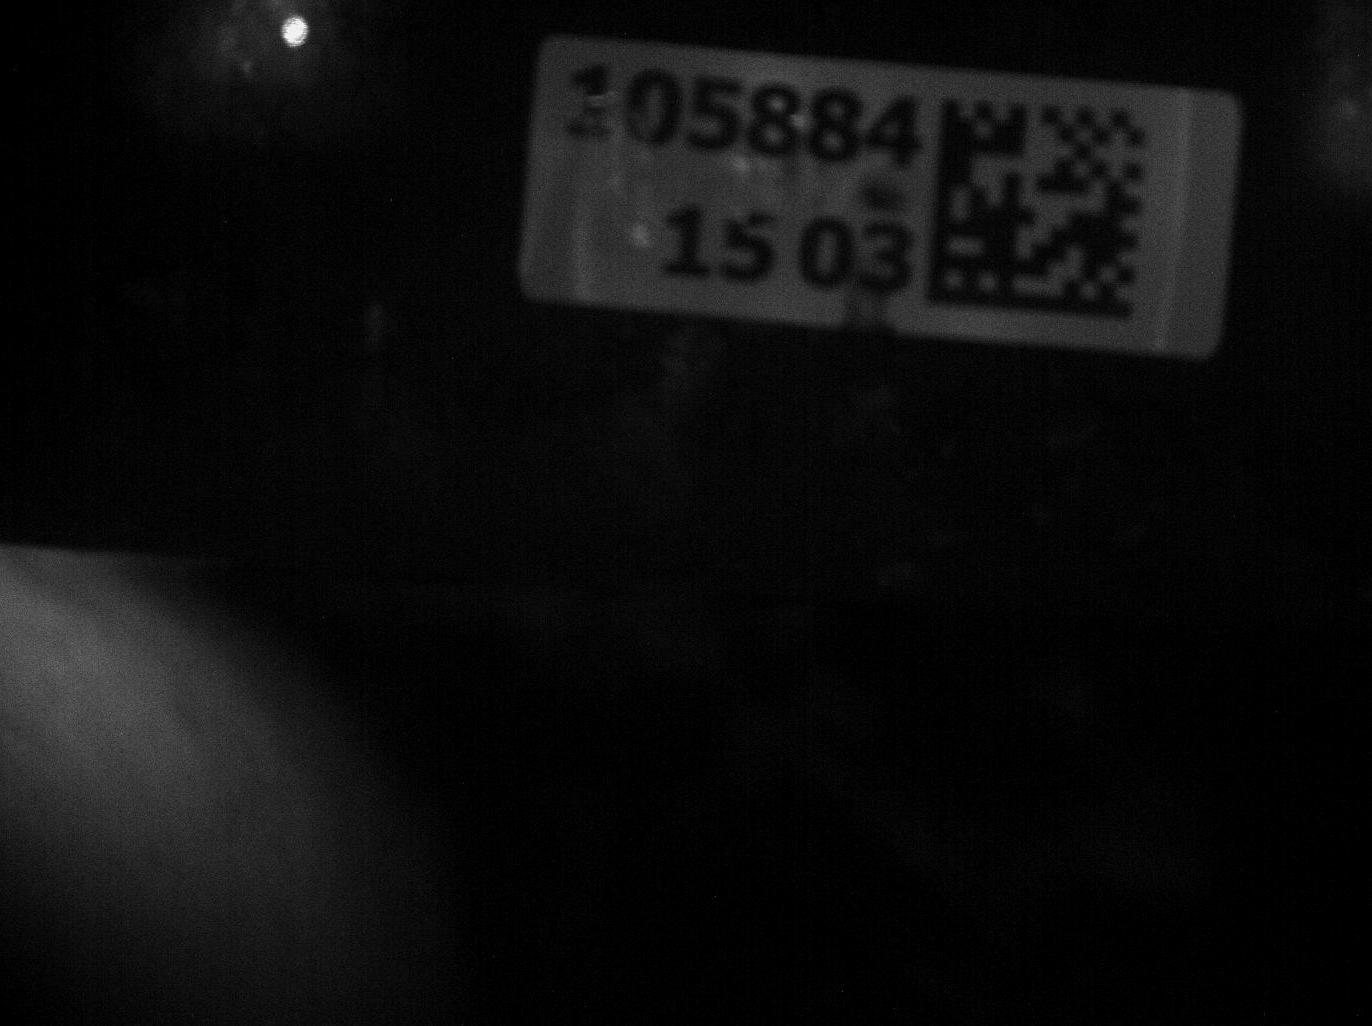data matrix: (913, 75, 1176, 341)
